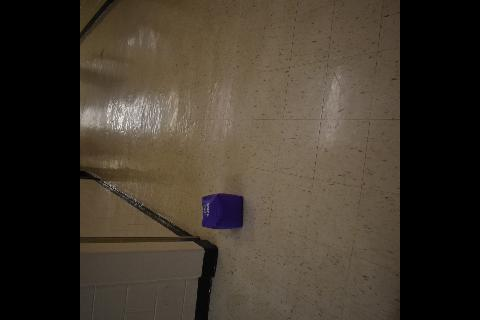cube: (200, 192, 244, 230)
